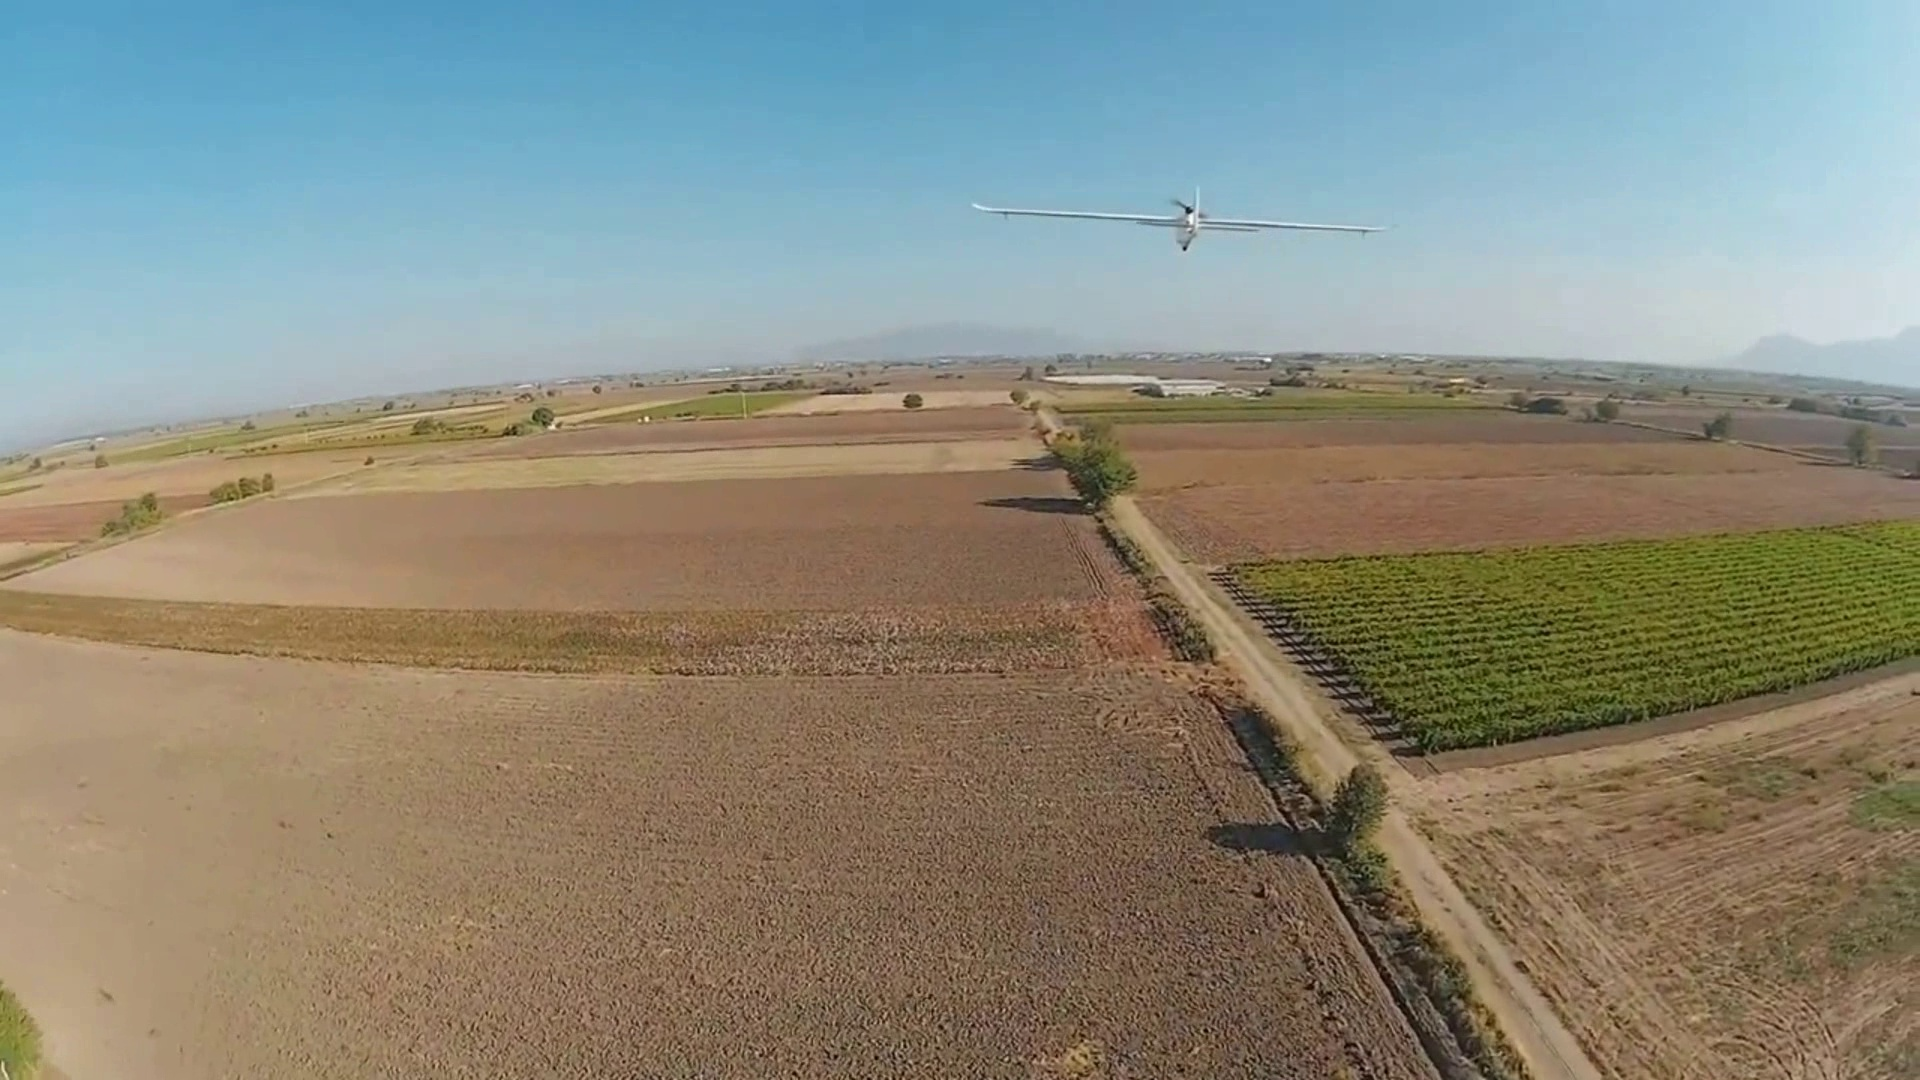airplane: (969, 191, 1379, 253)
